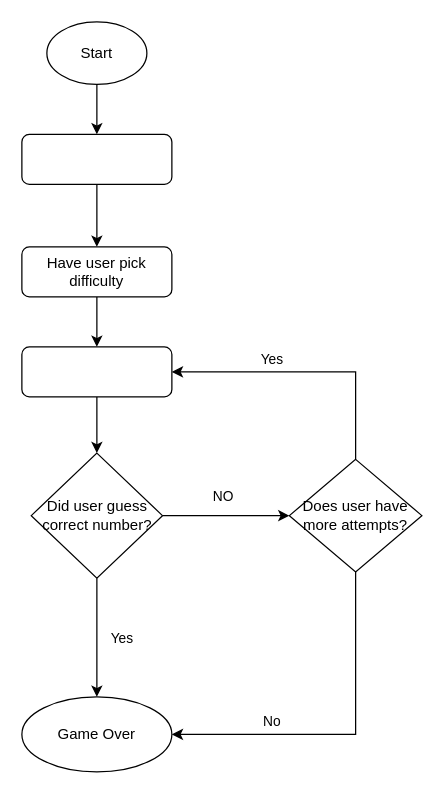
The diagram is 444 pixels wide and 794 high, and some of its shapes have lost their labels. Each missing label, with the centre of its shape:
Generate Random number: the point at 96,158
Have user pick a number: the point at 96,371
